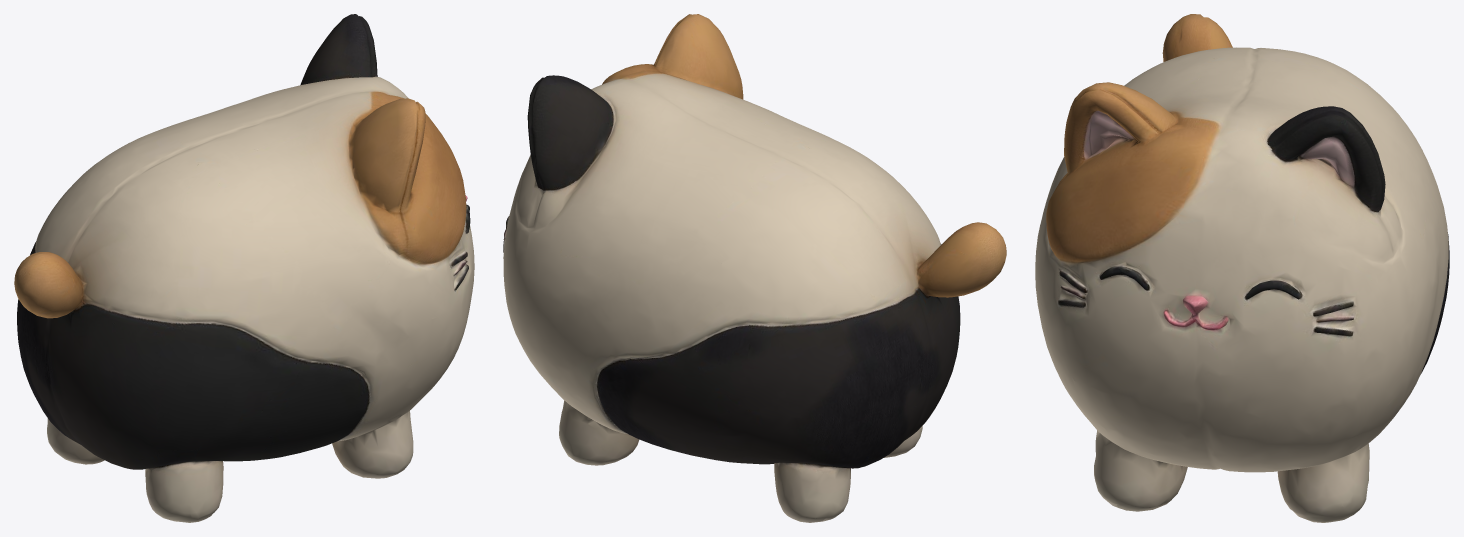
Rendered from CAMTHECAT.glb.
The picture shows the model from 3 angles, left to right: view 1: azimuth 30°, elevation 25°; view 2: azimuth 150°, elevation 25°; view 3: azimuth 270°, elevation 25°; orthographic projection. The views are drawn at different scales.
Parts seen in each view (by area): view 1: tripo_node_ac03a32a-3ae7-46f4-91dc-179a8fb92cd0; view 2: tripo_node_ac03a32a-3ae7-46f4-91dc-179a8fb92cd0; view 3: tripo_node_ac03a32a-3ae7-46f4-91dc-179a8fb92cd0.
Part boxes in pixels (x1,y1,x2,y2): tripo_node_ac03a32a-3ae7-46f4-91dc-179a8fb92cd0: (14,14,474,522); tripo_node_ac03a32a-3ae7-46f4-91dc-179a8fb92cd0: (503,14,1006,522); tripo_node_ac03a32a-3ae7-46f4-91dc-179a8fb92cd0: (1035,14,1449,522).
Size of the model in its own units: 1.24 by 1 by 0.8685.
1 material, 1 textured.
